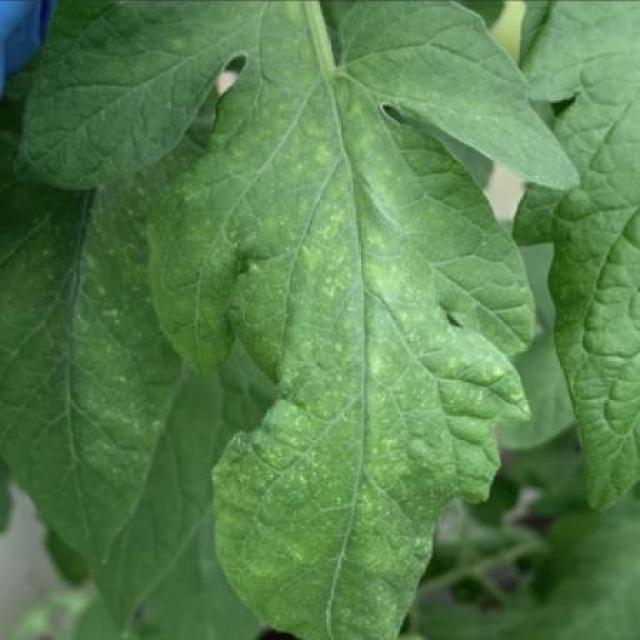Spider Mites: (146, 0, 540, 640)
